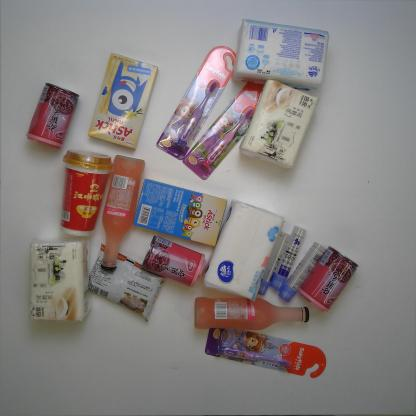Alcohol: (100, 154, 145, 272), (193, 297, 309, 330)
Canned Food: (298, 246, 358, 312), (26, 82, 79, 149), (141, 235, 205, 287)
Dessert: (88, 53, 158, 149), (132, 179, 228, 246)
Instant Drink: (60, 148, 114, 235)
Personal Hygiene: (183, 71, 281, 180), (156, 46, 238, 160), (204, 320, 327, 378)
Seasoner: (87, 243, 167, 322)
Stationery: (279, 242, 325, 302), (270, 225, 306, 290), (255, 232, 289, 295)
Tissue: (204, 200, 284, 302), (239, 80, 319, 169), (233, 19, 327, 84), (30, 239, 91, 321)
